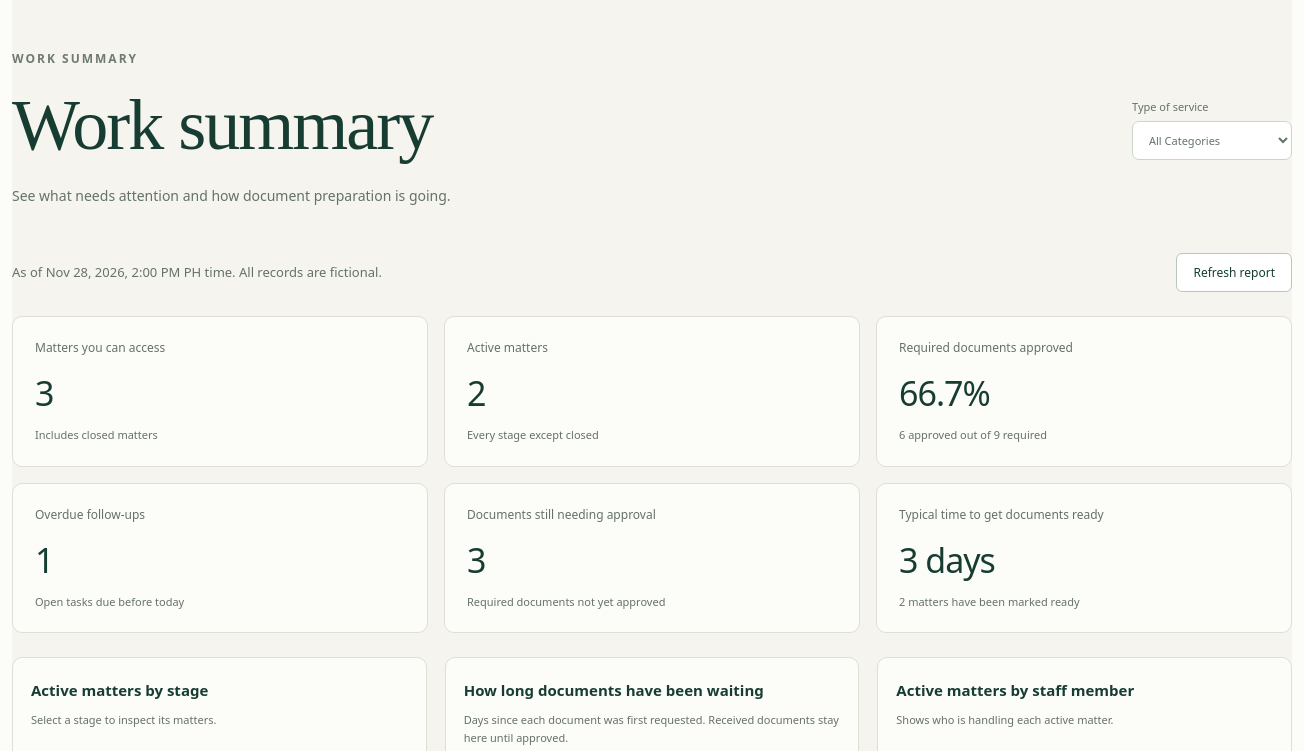
Test: failed refresh keeps the previous snapshot and recovers; expired sessions are handled
The width and height of the screenshot is (1304, 751).
Later steps or results of the test are not shown.
Click the button "Refresh report" at (1234, 272), box [1176,253,1292,292]
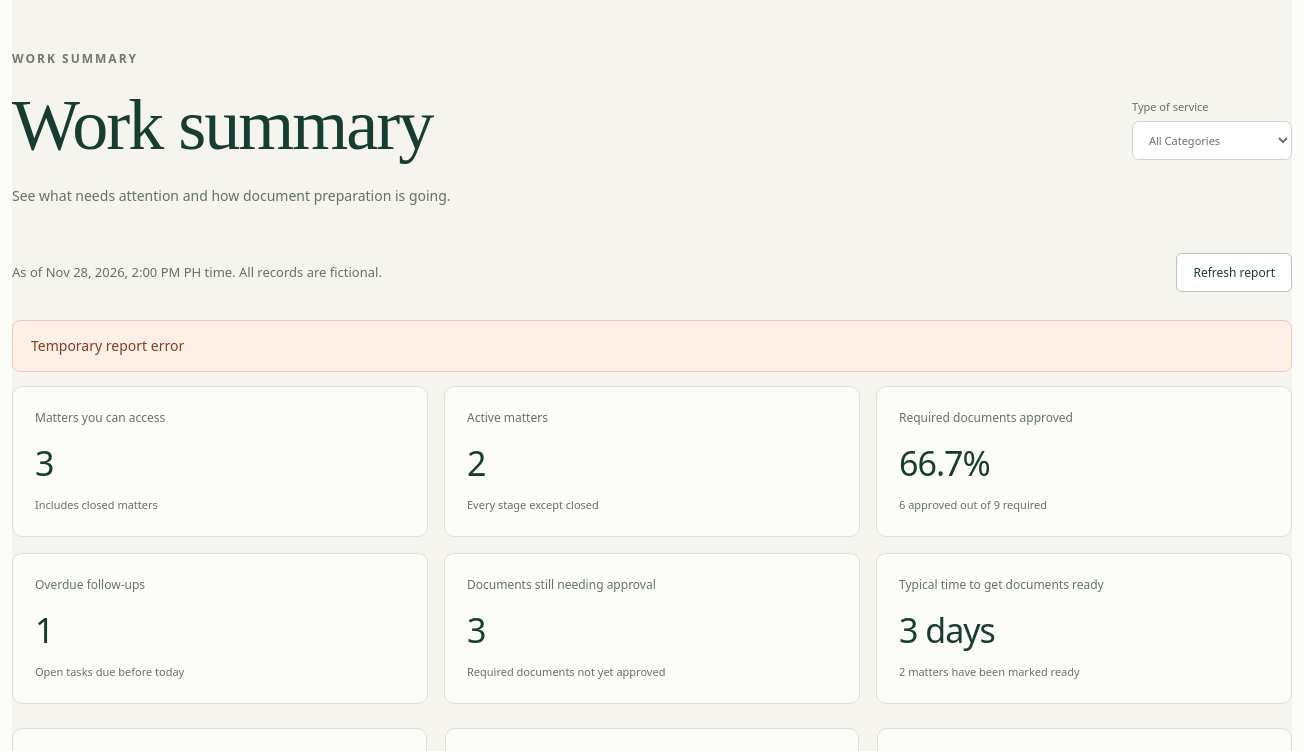
Expected: the message "Temporary report error" is shown, [12,320,1292,372]
Click the button "Refresh report" at (1234, 272), box [1176,253,1292,292]
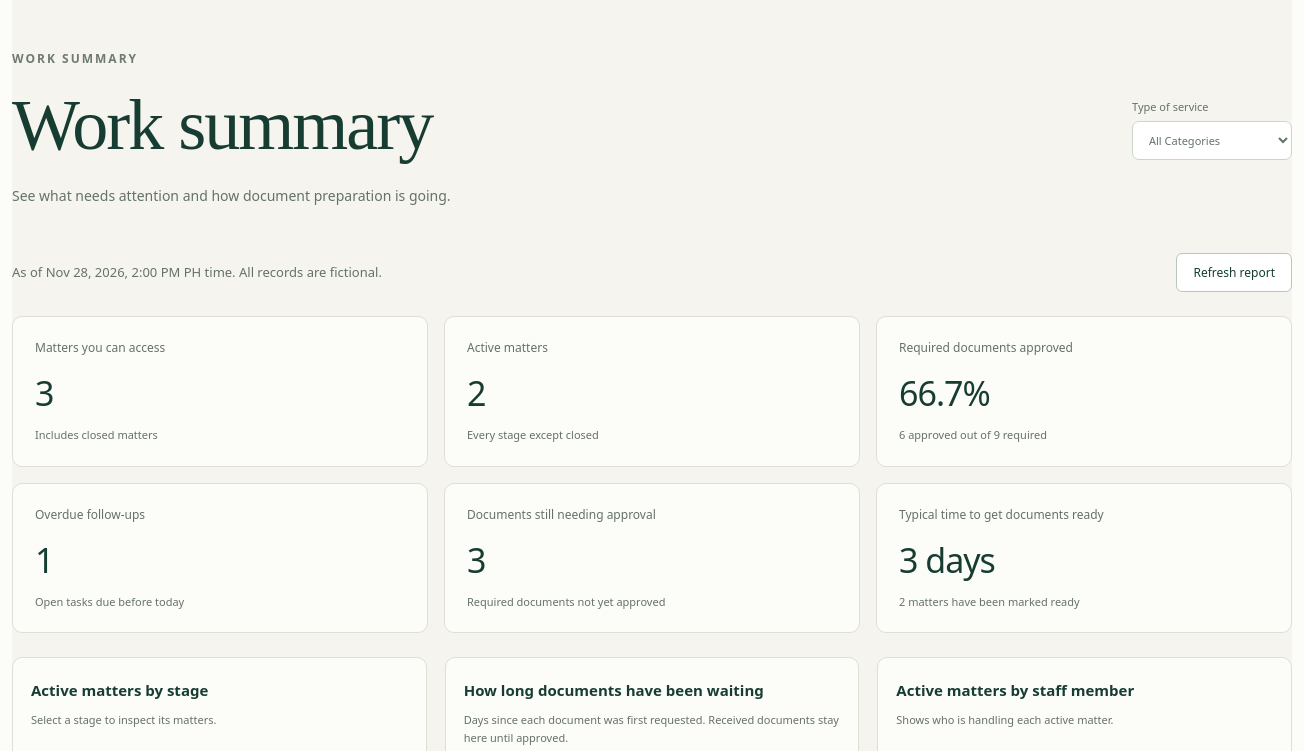
Expected: the message "Temporary report error" is gone
